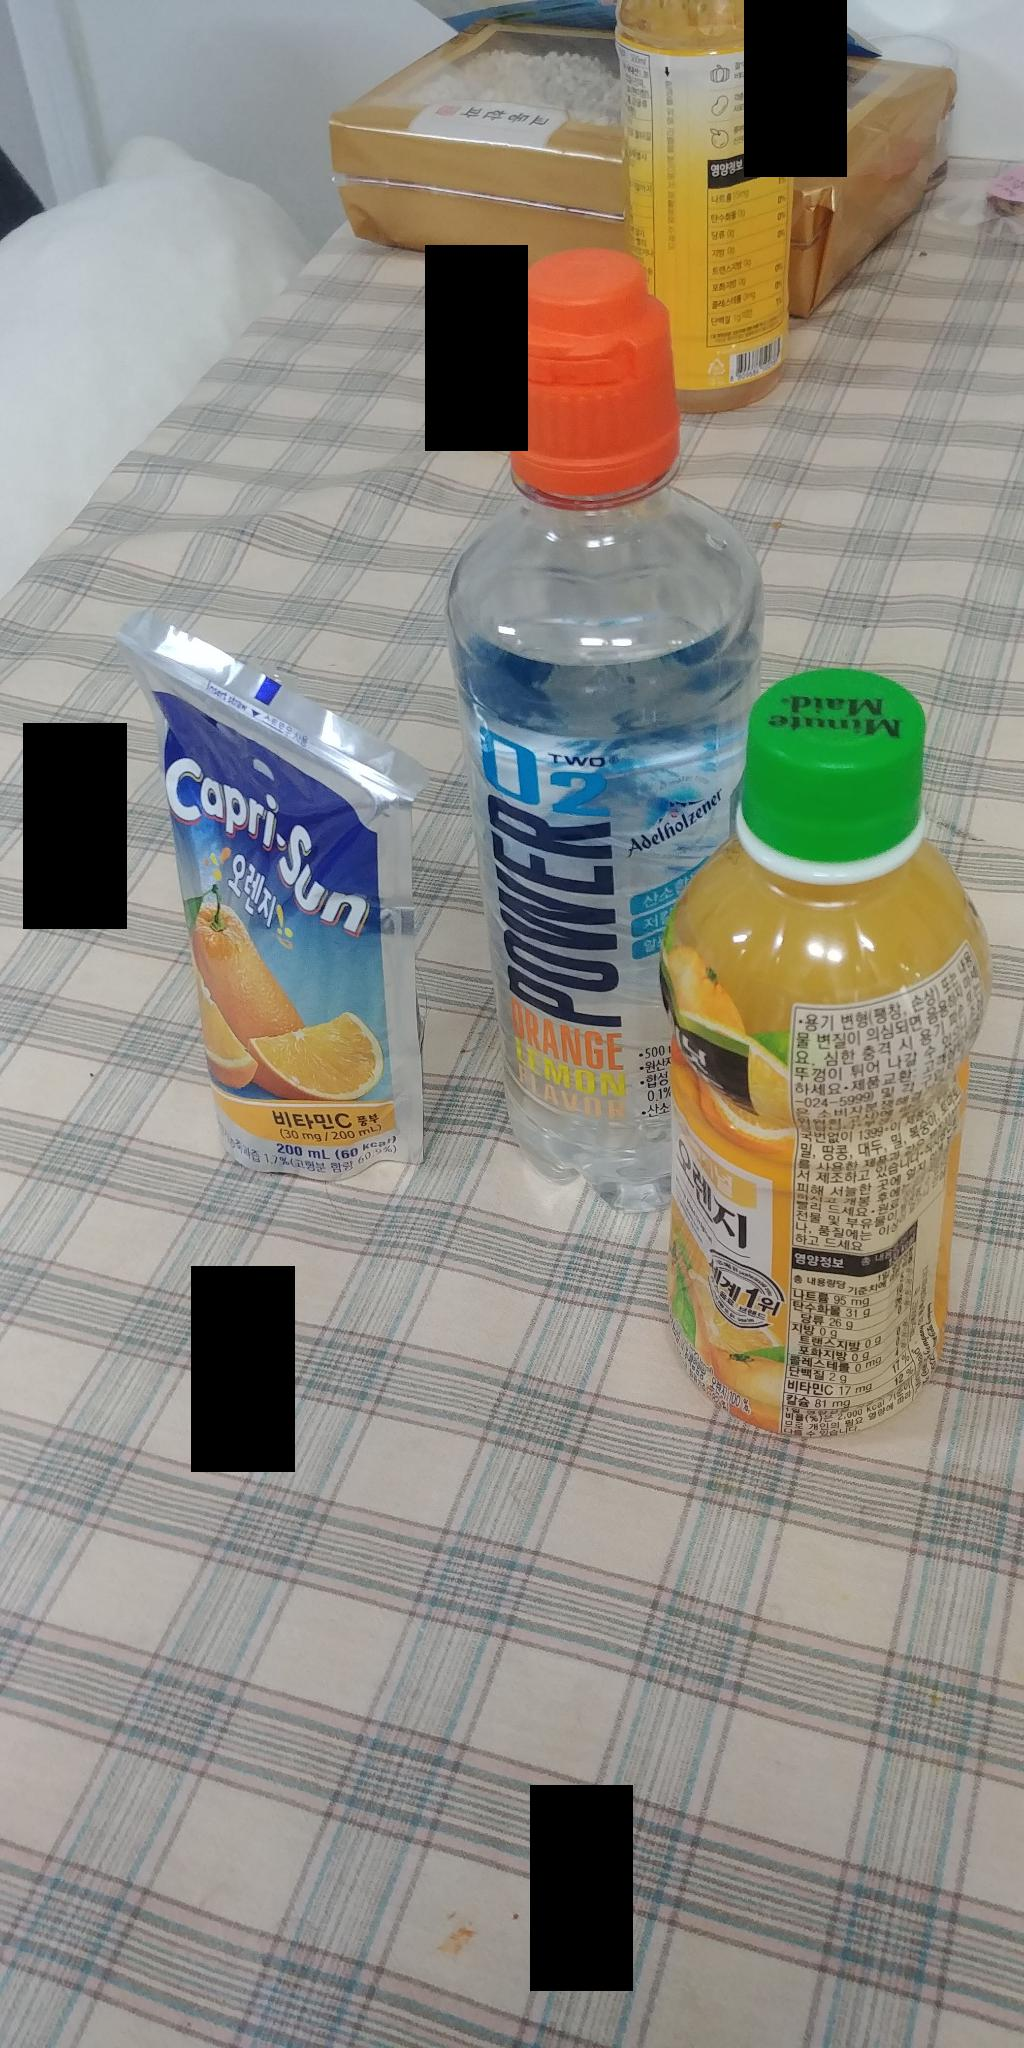cafrisun: (111, 598, 455, 1208)
minutemaid_org_orange: (643, 669, 1000, 1451)
powerO2_orange: (449, 226, 765, 1237)
